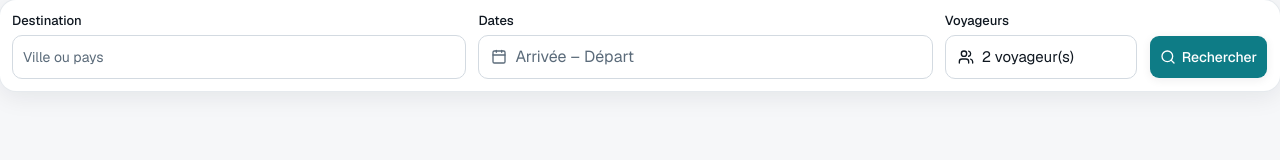
Scenario: SearchBar › rejette une soumission sans dates : erreurs affichées, AUCUNE navigation (aucun appel BFF)
Type "Paris" into the field with test id "search-destination".
click(239, 57); type("Paris")  # box [12,35,466,79]
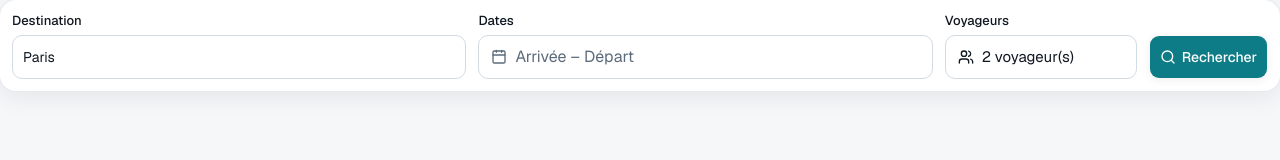
Click the button with test id "search-submit".
click(1208, 57)  # box [1149,35,1268,79]
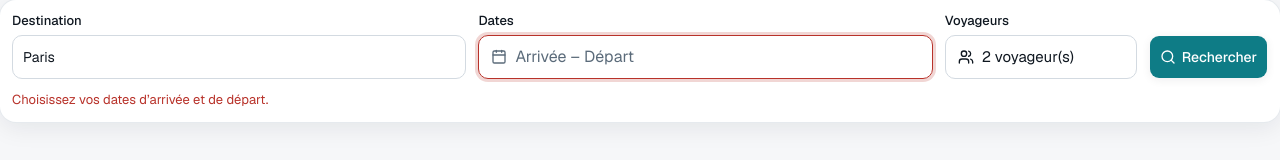
Expected: the message "Choisissez vos dates d’arrivée et de départ." is shown, [12,91,268,108]
